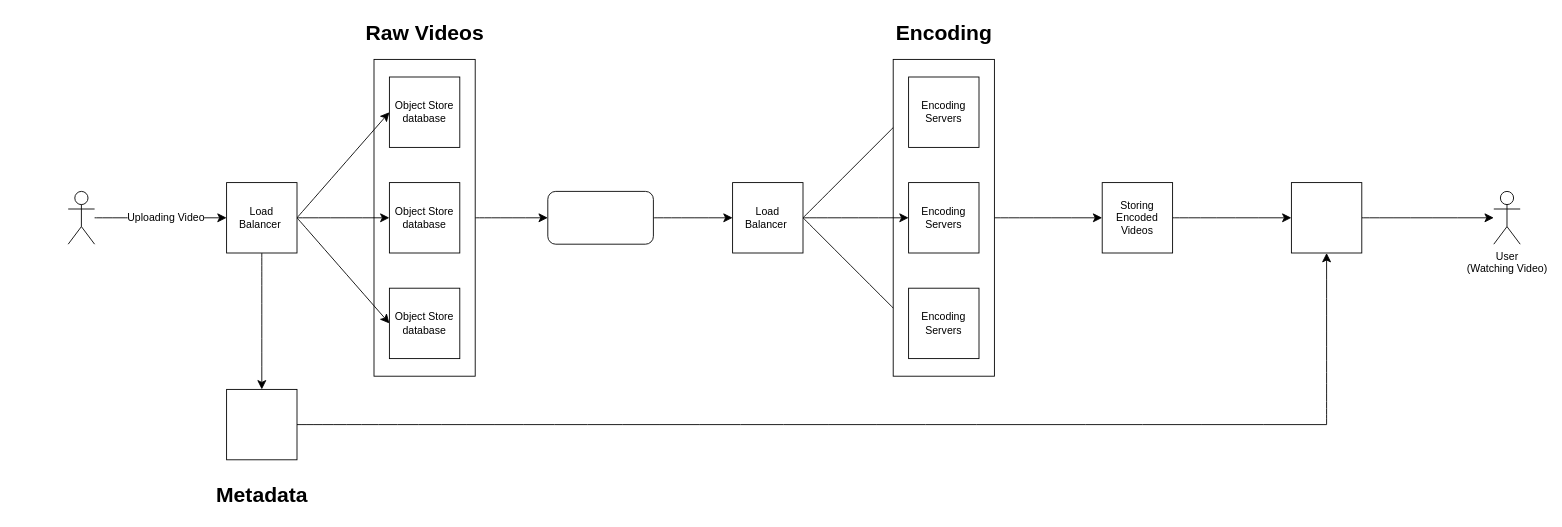
Some shapes in this 1562 by 527 pixel diagram are drawn without their labels. Here are the shapes that lost their labels. From the top down, the centre of each, then its label:
(81,217): Actor (YouTuber Uploading Video)
(600,217): Queue
(1326,217): CDN (Content Distribution System)
(261,424): Video Detail Storage
